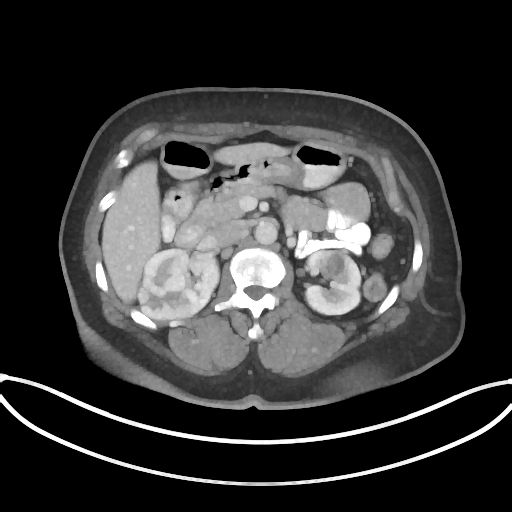Lesion: (322, 249, 346, 280)
